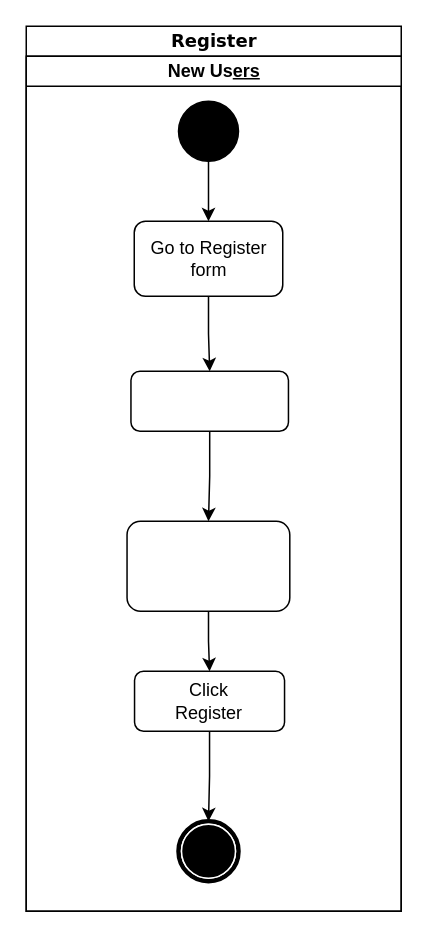
Some shapes in this 428 by 938 pixel diagram are drawn without their labels. The shapes that lost their labels are listed below. From the top down, each one's box as (x1, y1, x2, y2) in pixels, then its label:
(129, 370, 288, 431): Enter User Details
(126, 520, 290, 611): Accept Terms & Conditions
